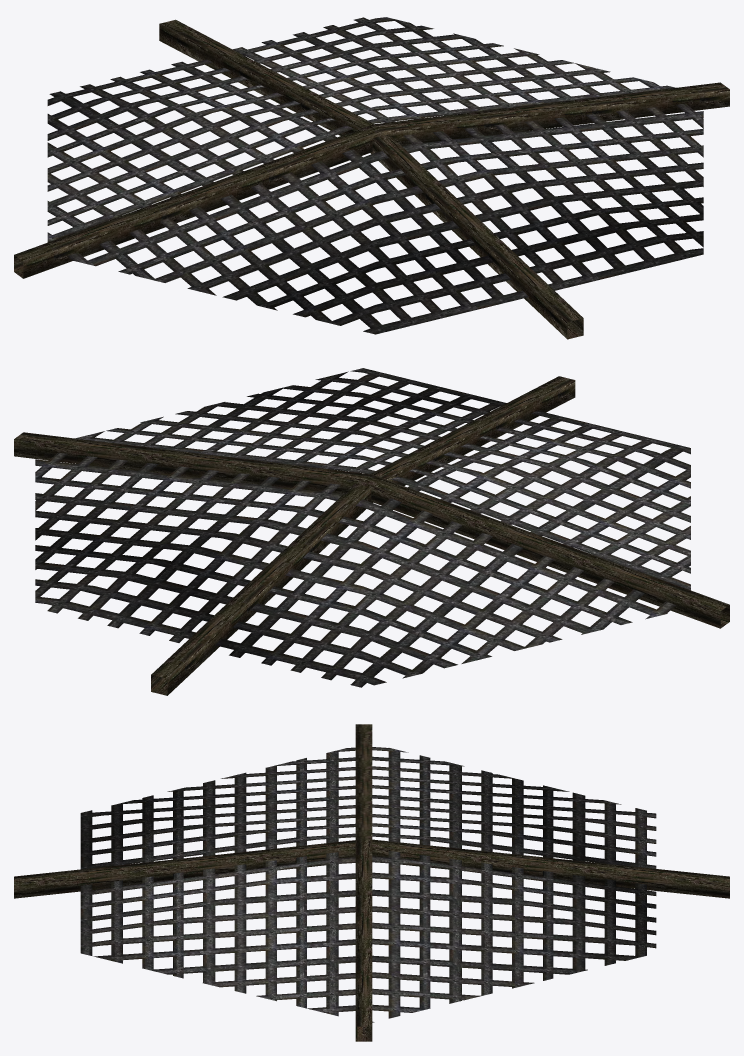
Rendered from NC_OREHEAP_FENCE.glb.
3 renders of one model, top to bottom at view 1: azimuth 30°, elevation 25°; view 2: azimuth 150°, elevation 25°; view 3: azimuth 270°, elevation 25°, orthographic. The views are drawn at different scales.
Parts seen in each view (by area): view 1: Mesh; view 2: Mesh; view 3: Mesh.
Part boxes in pixels (x1,y1,x2,y2): Mesh: (14,17,729,339); Mesh: (14,368,729,695); Mesh: (14,724,729,1041).
Size of the model in its own units: 11.2 by 0.9585 by 11.2.
Materials: 2 (2 with a texture image).
